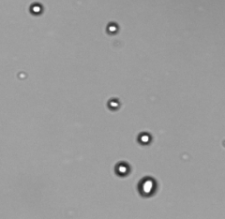Living Cell: (139, 176, 157, 197), (115, 161, 130, 176), (137, 131, 152, 144), (29, 2, 43, 15), (108, 97, 121, 109), (106, 22, 118, 34)
